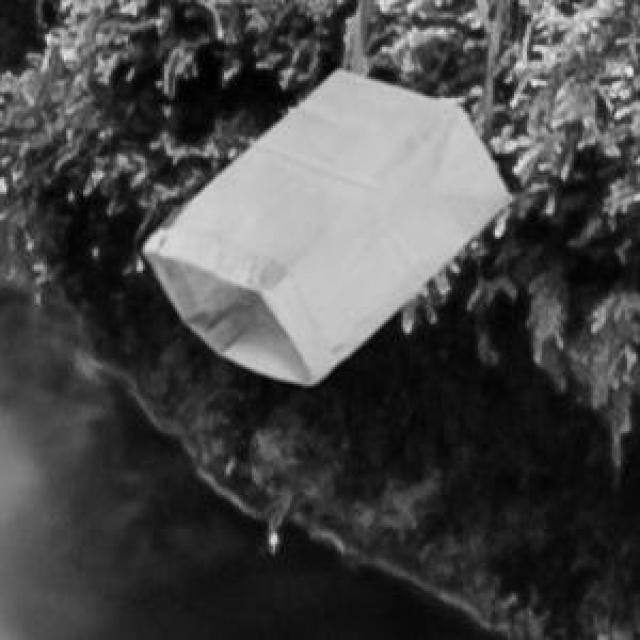paper: (141, 66, 506, 380)
